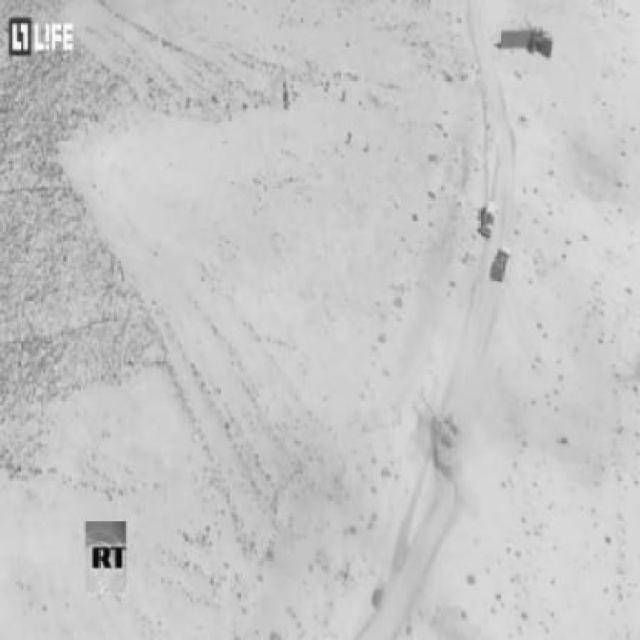Vehicle: (430, 405, 464, 483), (486, 243, 513, 289), (474, 195, 499, 239)
